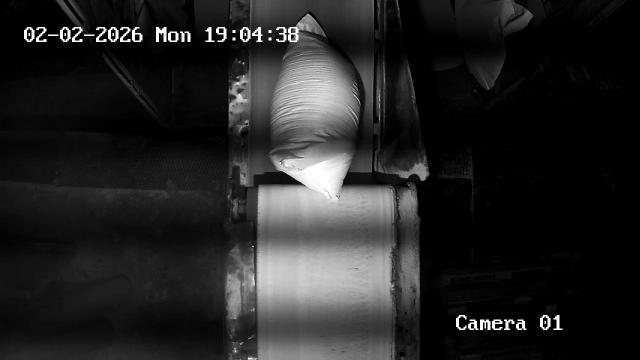bag: (270, 13, 360, 202)
